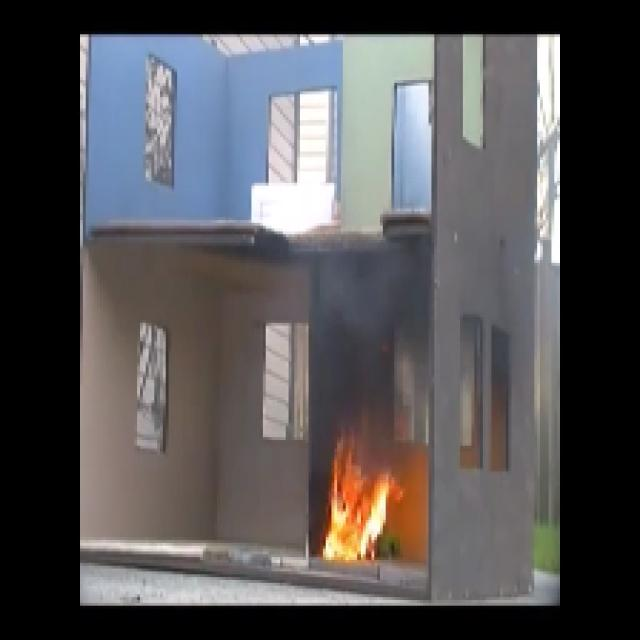fire: (317, 456, 394, 558)
